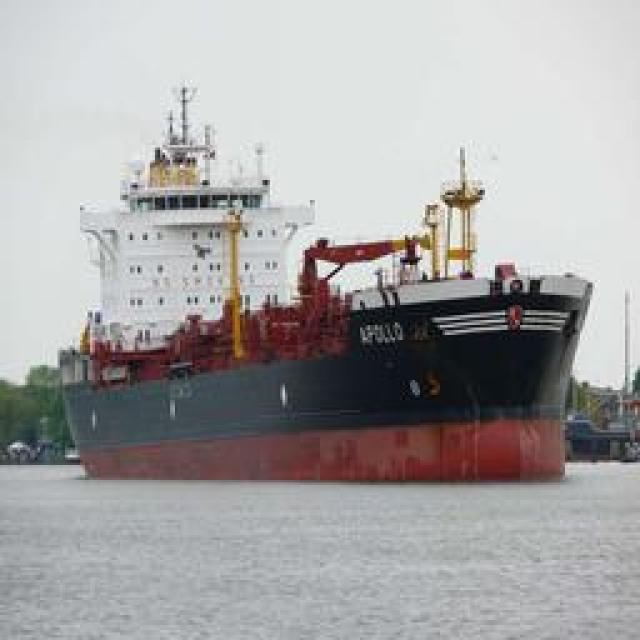CIV_Ship: (61, 68, 601, 468)
